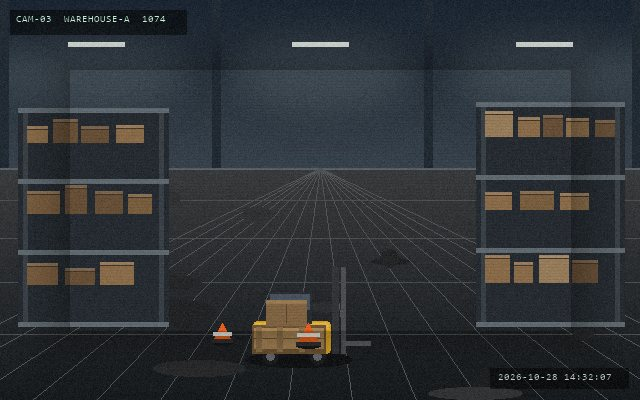cone: (295, 321, 321, 348), (211, 321, 233, 345)
forklift: (249, 265, 372, 367)
pallet: (250, 323, 327, 355)
shelf: (476, 102, 624, 322), (89, 213, 97, 217)
